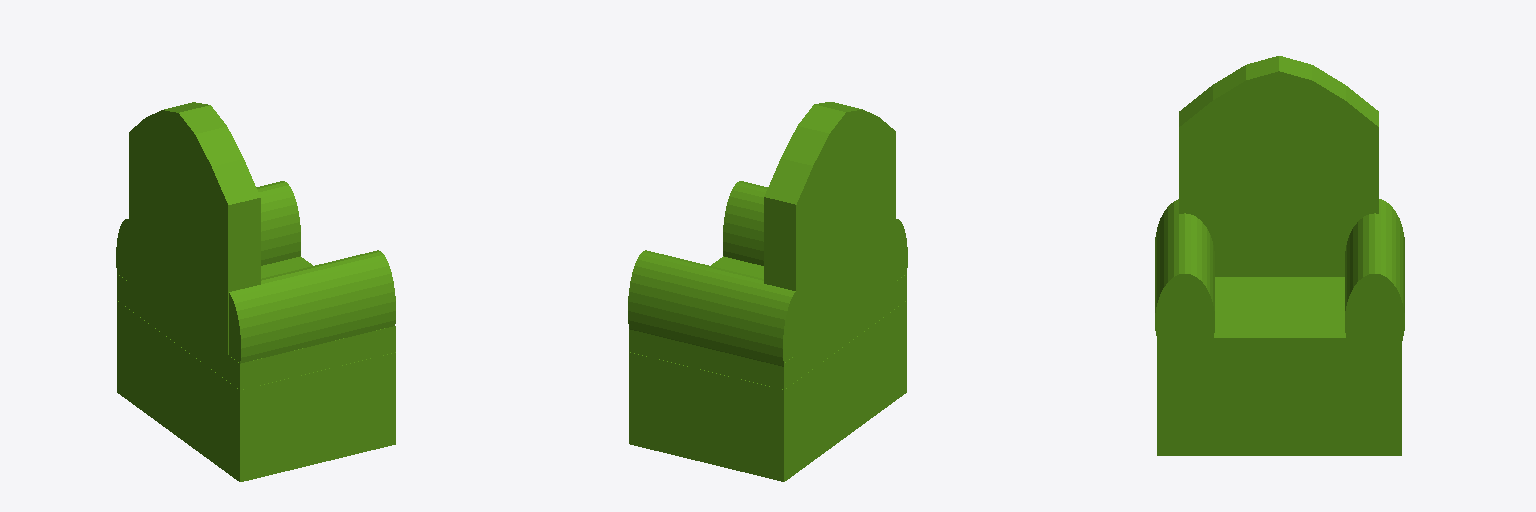
3 renders of one model, left to right at view 1: azimuth 30°, elevation 25°; view 2: azimuth 150°, elevation 25°; view 3: azimuth 270°, elevation 25°, orthographic.
Visible parts, largest first — view 1: Cube.024_Cube.027; view 2: Cube.024_Cube.027; view 3: Cube.024_Cube.027.
Part boxes in pixels (x1,y1,x2,y2): Cube.024_Cube.027: (116, 102, 395, 481); Cube.024_Cube.027: (628, 102, 907, 481); Cube.024_Cube.027: (1155, 56, 1404, 455).
Bounding box in the file's own units: 6.56 × 13.07 × 9.12.
1 materials, 1 textured.